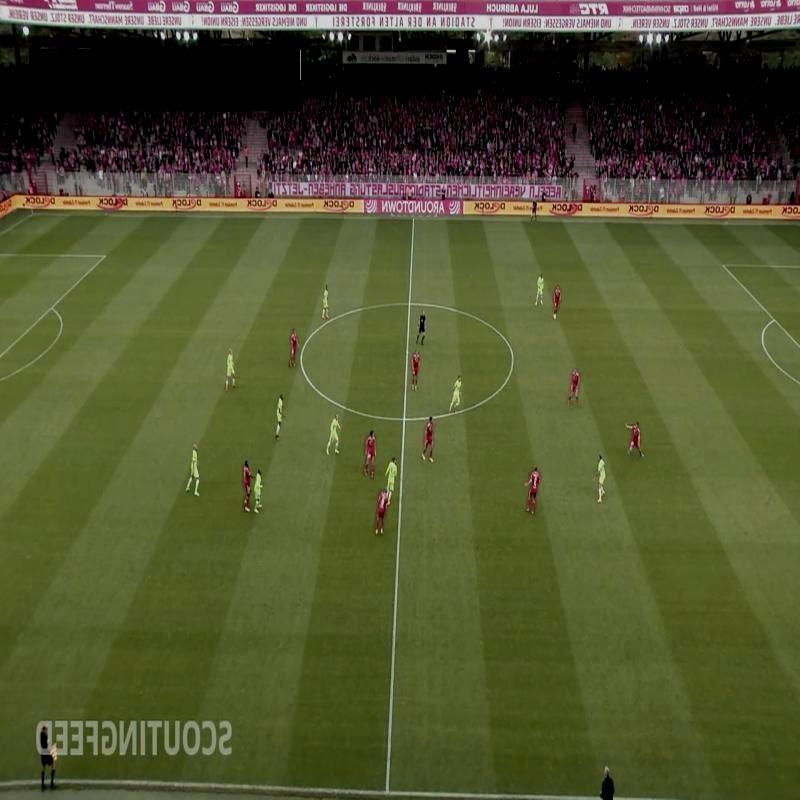1: (26, 208, 40, 221)
10: (762, 309, 788, 329), (44, 301, 58, 315)
13: (407, 210, 421, 224)
14: (403, 295, 417, 309)
15: (398, 414, 412, 428)
16: (377, 783, 397, 800)
9: (712, 254, 735, 276), (99, 249, 113, 262)
c: (294, 350, 307, 366), (504, 358, 518, 372)
